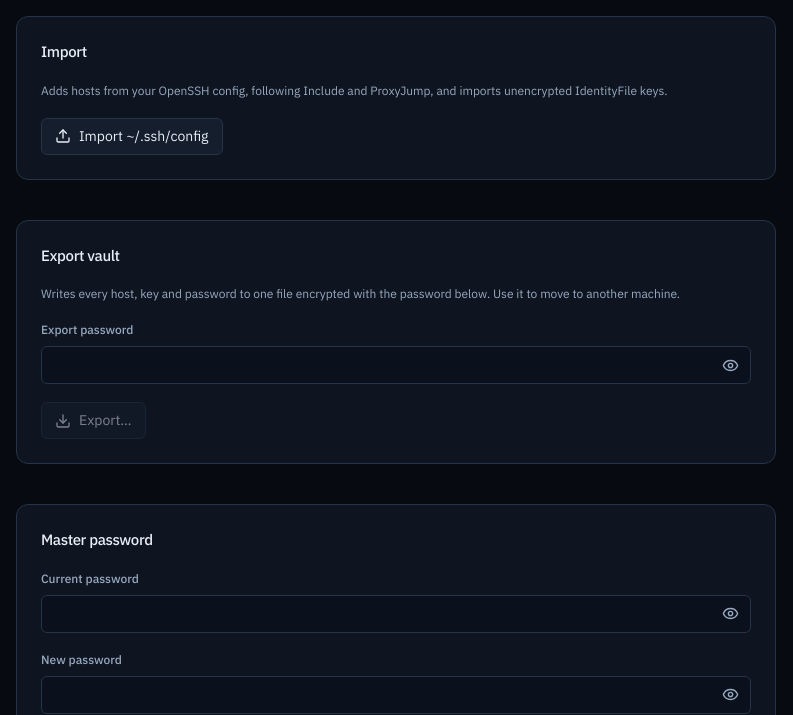
exports the vault to a chosen file with an export password
(page scrolled)
Type "exp" into the password field labelled "Export password" at (396, 365), box [41,346,751,384]
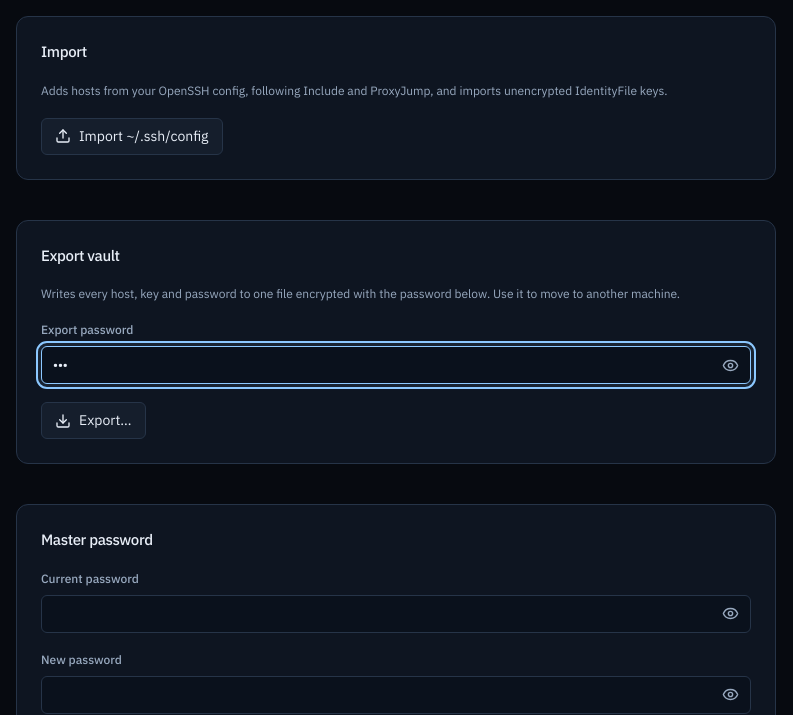
Click the button "Export…" at (93, 420), box [41,402,146,439]
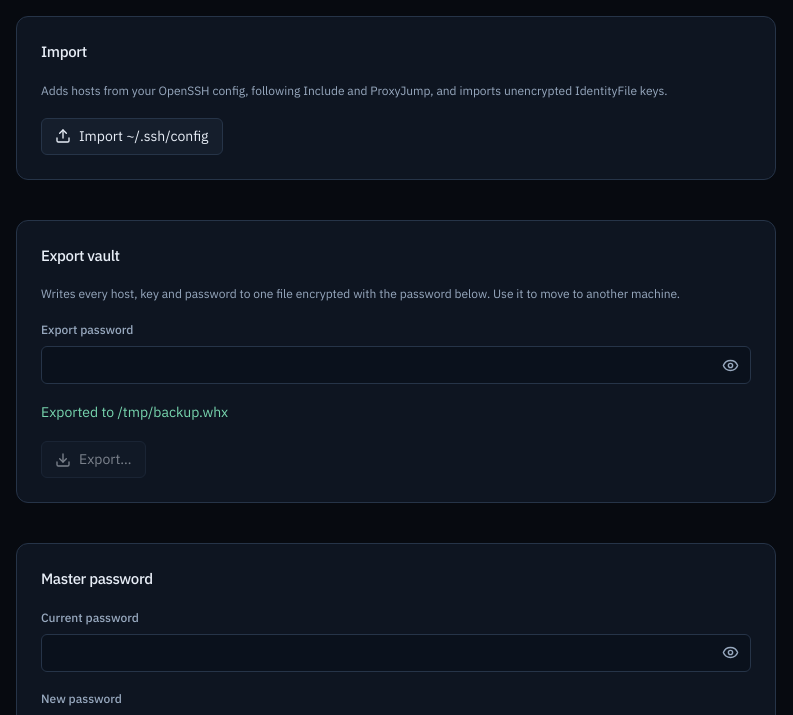
Now the message shows "Exported", box [41,403,228,421]
